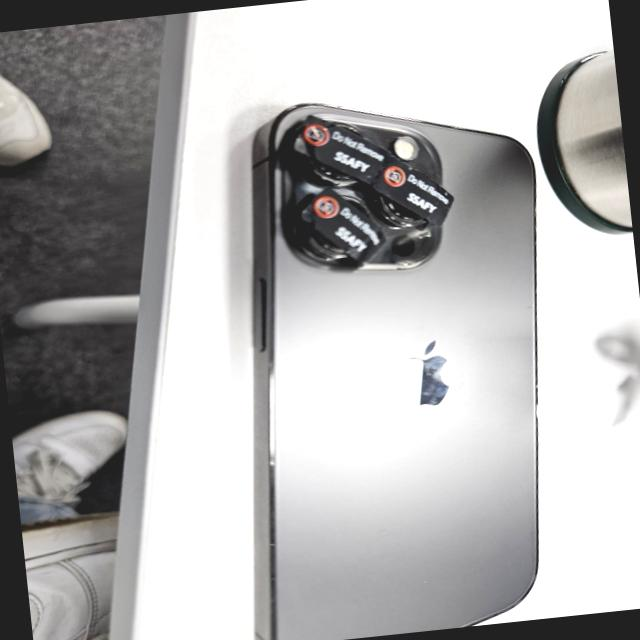phone: (193, 80, 580, 640)
sticker: (296, 182, 388, 274), (286, 112, 388, 182), (371, 154, 457, 228)
